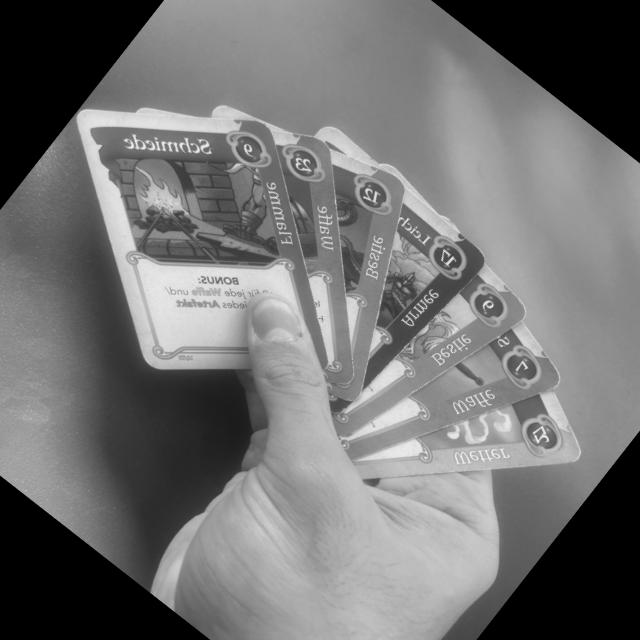Forge: (76, 112, 330, 372)
Hydra: (330, 149, 408, 393)
Light Cavalry: (363, 190, 490, 390)
Smoke: (352, 391, 585, 480)
Sword of Keth: (338, 323, 566, 461)
Unicorn: (332, 266, 531, 438)
Warship: (271, 130, 354, 384)
